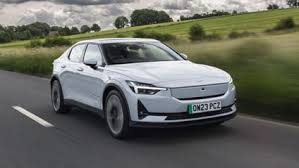car: (47, 33, 238, 138)
